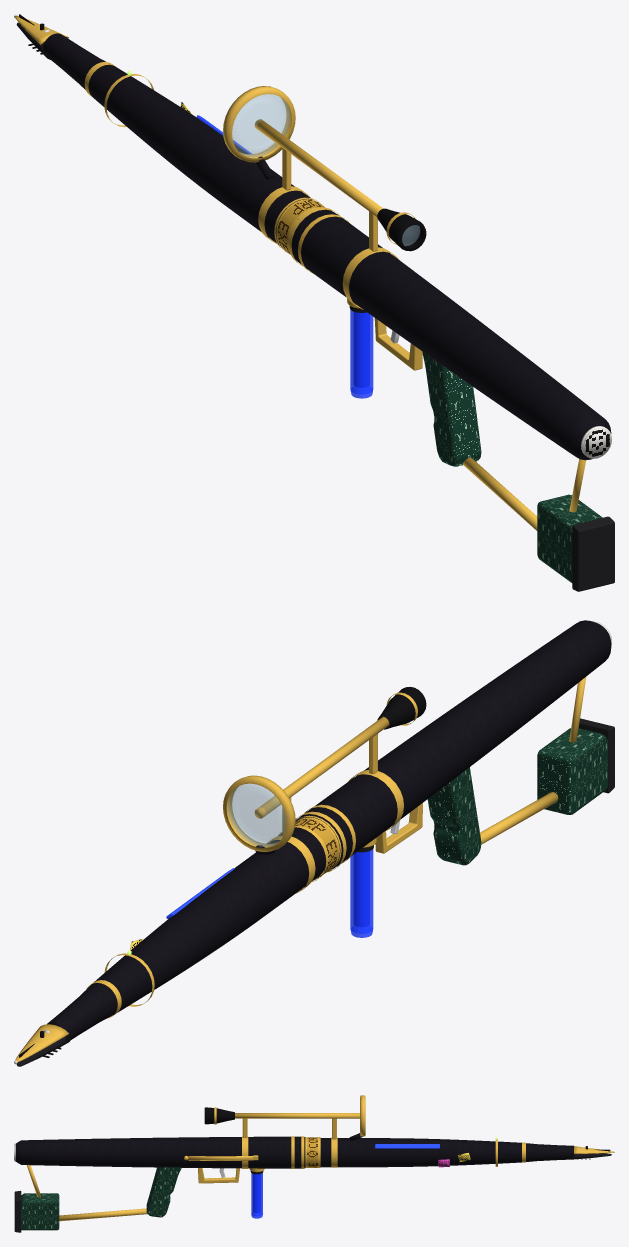
The model's file is w_dmr_pen.glb.
The picture shows the model from 3 angles, top to bottom: view 1: azimuth 30°, elevation 25°; view 2: azimuth 150°, elevation 25°; view 3: azimuth 270°, elevation 25°; orthographic projection. The views are drawn at different scales.
Visible parts, largest first — view 1: pen_body_wzA, pen_body_wzB, pen_body_wzN, mag_wzN; view 2: pen_body_wzA, pen_body_wzB, pen_body_wzN, mag_wzN; view 3: pen_body_wzA, pen_body_wzB, pen_body_wzN, mag_wzN, charge_wzB.
Part boxes in pixels (x1,y1,x2,y2): pen_body_wzA: (88,64,614,591); pen_body_wzB: (14,14,585,530); pen_body_wzN: (127,70,611,458); mag_wzN: (350,310,373,398); pen_body_wzA: (91,620,614,1014); pen_body_wzB: (14,677,586,1066); pen_body_wzN: (127,621,611,954); mag_wzN: (350,849,373,937); pen_body_wzA: (14,1133,521,1232); pen_body_wzB: (27,1095,614,1221); pen_body_wzN: (14,1137,497,1167); mag_wzN: (251,1173,262,1218); charge_wzB: (184,1155,258,1160).
Bounding box in the file's own units: 0.102 × 0.357 × 1.48.
Materials: 17 (6 with a texture image).
